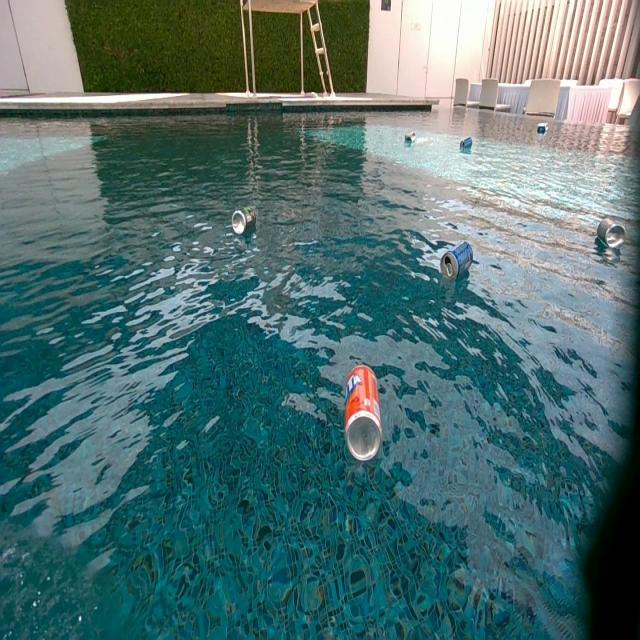Cans: (344, 366, 381, 464), (440, 242, 476, 283), (600, 219, 628, 250), (232, 208, 256, 236), (460, 138, 473, 150), (406, 132, 417, 146), (536, 125, 547, 136)
